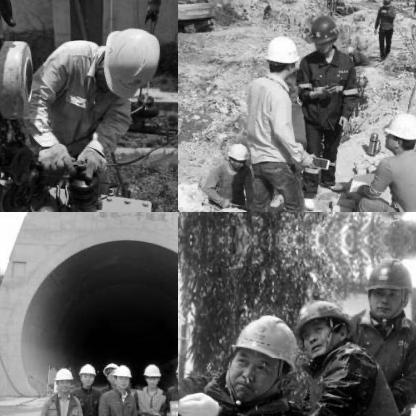Helmet: (222, 311, 302, 403), (96, 23, 162, 97), (290, 292, 354, 362), (362, 251, 415, 326), (262, 33, 298, 77), (382, 108, 415, 153), (307, 11, 339, 53), (361, 212, 415, 227), (224, 140, 247, 168), (102, 360, 120, 390), (53, 367, 72, 395), (140, 362, 160, 388), (74, 361, 94, 386), (112, 364, 130, 390), (171, 362, 177, 387), (377, 0, 391, 9)
